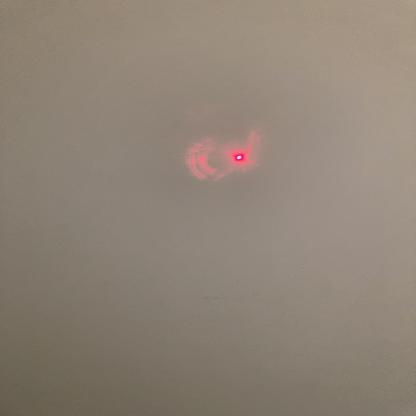target: (231, 151, 254, 168)
